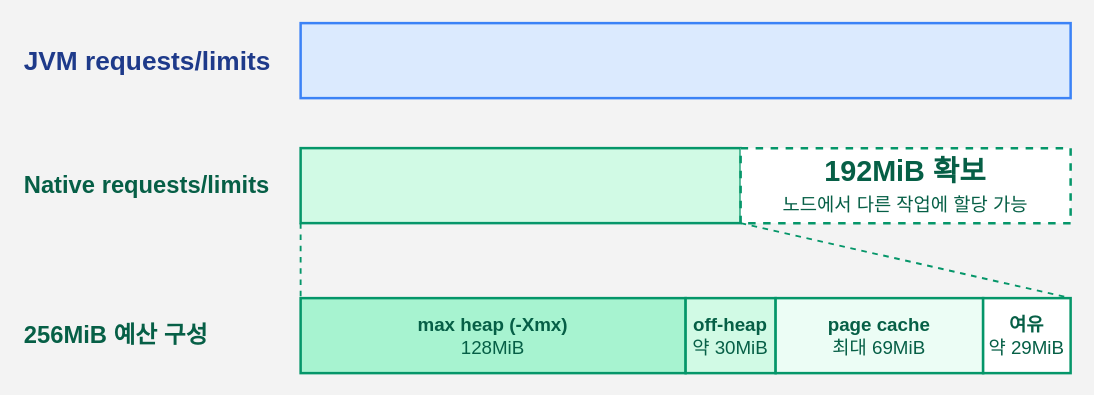
Some shapes in this 1094 by 395 pixel diagram are drawn without their labels. Each missing label, with the centre of its shape:
"256MiB 할당량 약 43% 절감" goes at [520,185].
"448MiB" goes at [685,60].
